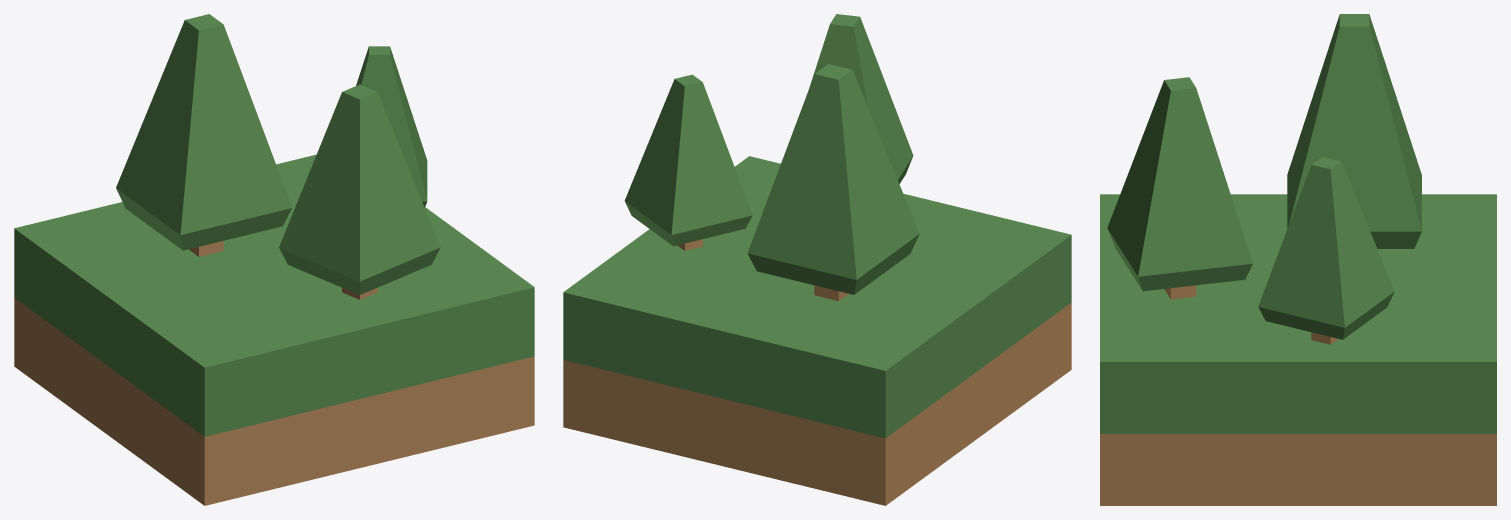
File: tile_060.obj
3 views of the same model, side by side, from view 1: azimuth 30°, elevation 25°; view 2: azimuth 150°, elevation 25°; view 3: azimuth 270°, elevation 25° (orthographic). The views are drawn at different scales.
Parts seen in each view (by area): view 1: tile_060, Component#2; view 2: tile_060, Component#2; view 3: tile_060, Component#2.
Boxes of the visible parts, x1,y1,x2,y2 form: tile_060: [14, 154, 534, 505]; Component#2: [116, 14, 440, 299]; tile_060: [563, 156, 1071, 505]; Component#2: [624, 14, 919, 300]; tile_060: [1100, 194, 1496, 505]; Component#2: [1107, 14, 1421, 344].
Bounding box in the file's own units: 1.03 × 1.06 × 1.
